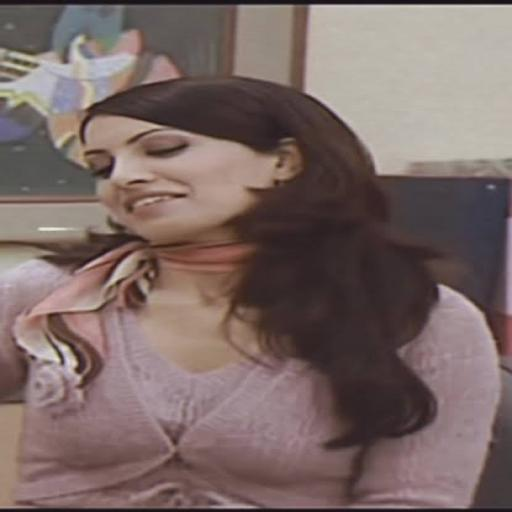Dalanda: (83, 78, 306, 243)
